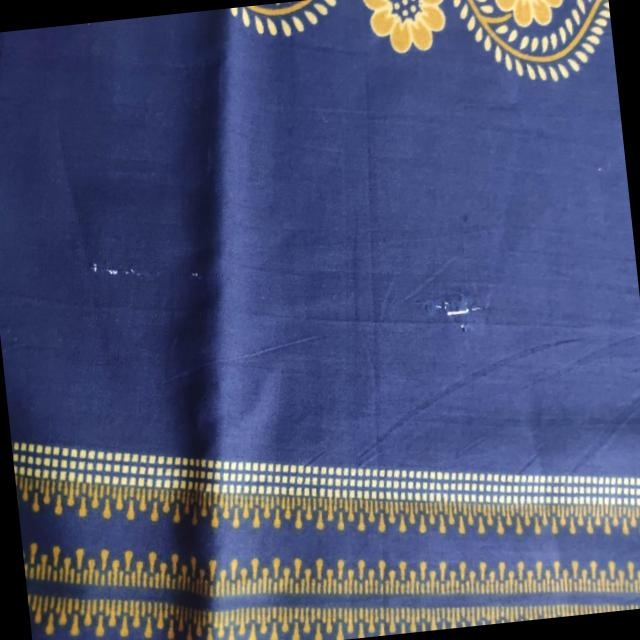selvet: (76, 201, 238, 304), (408, 263, 492, 340)
